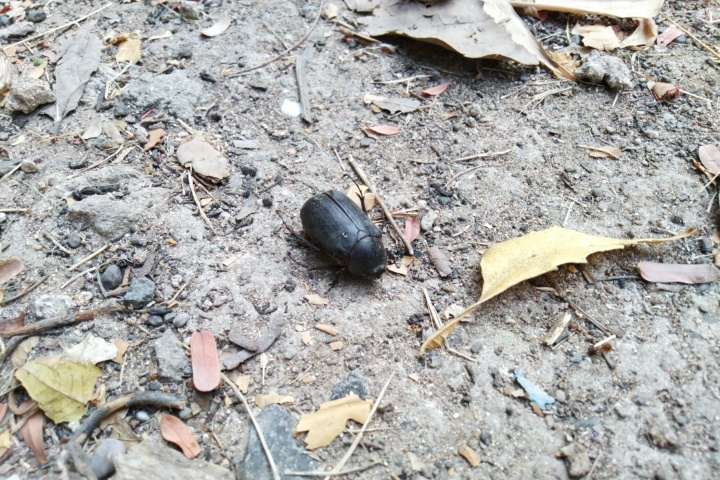INS-A: (266, 171, 415, 294)
